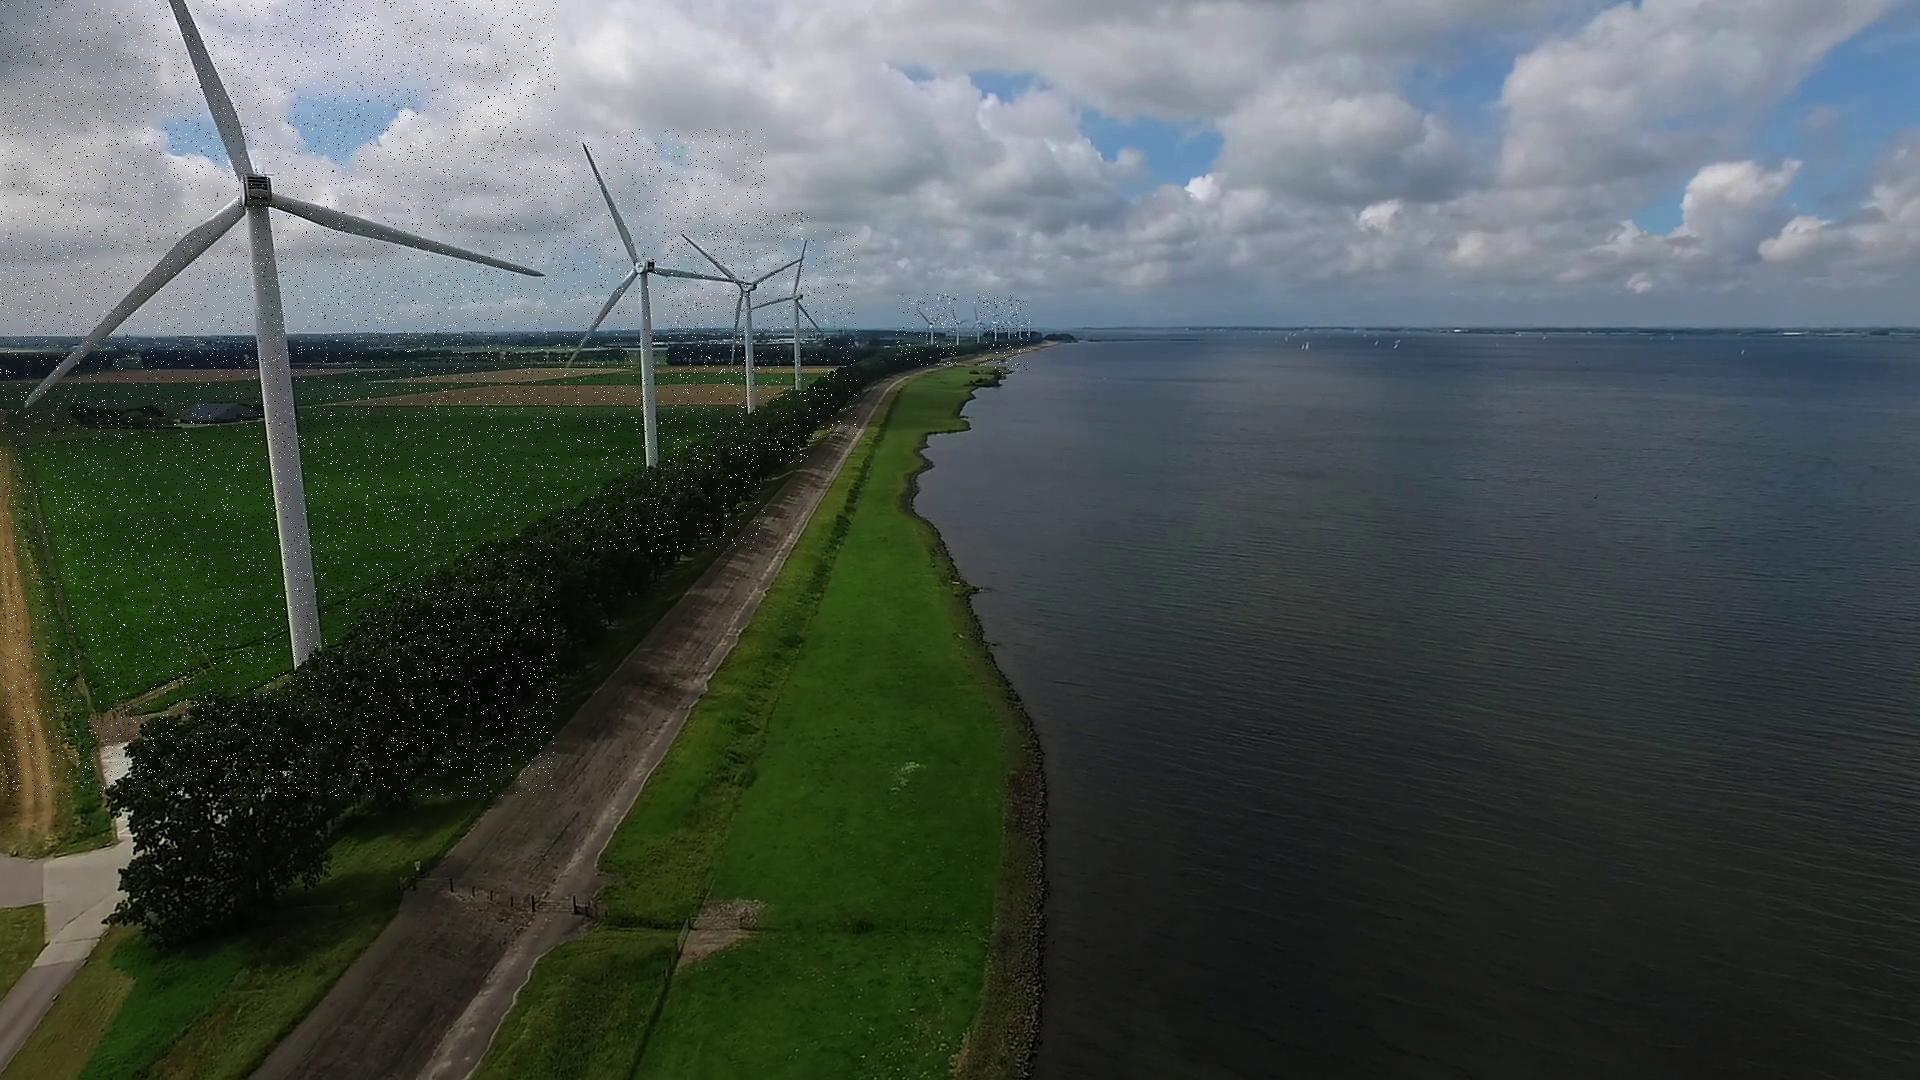turbine: (0, 0, 556, 796), (501, 129, 766, 554), (669, 212, 810, 464), (744, 229, 857, 440), (897, 294, 964, 367), (930, 294, 978, 361), (993, 293, 1030, 375), (957, 294, 996, 365), (978, 294, 1011, 365), (66, 579, 74, 579)
